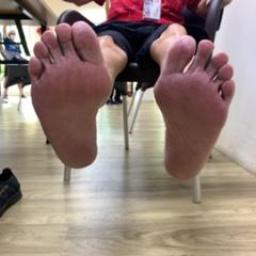Plantar View -Both Feet-: (19, 9, 244, 195)
